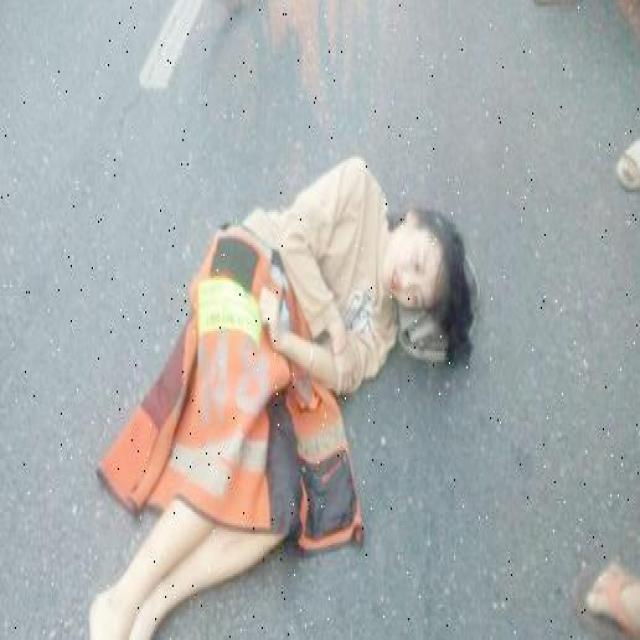fall: (84, 165, 472, 638)
